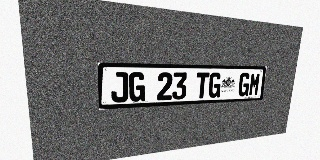2: (157, 72, 173, 101)
3: (172, 72, 187, 100)
G: (129, 72, 145, 102), (208, 73, 222, 98), (238, 73, 251, 96)
J: (111, 72, 128, 103)
M: (248, 73, 261, 96)
T: (195, 72, 209, 99)
